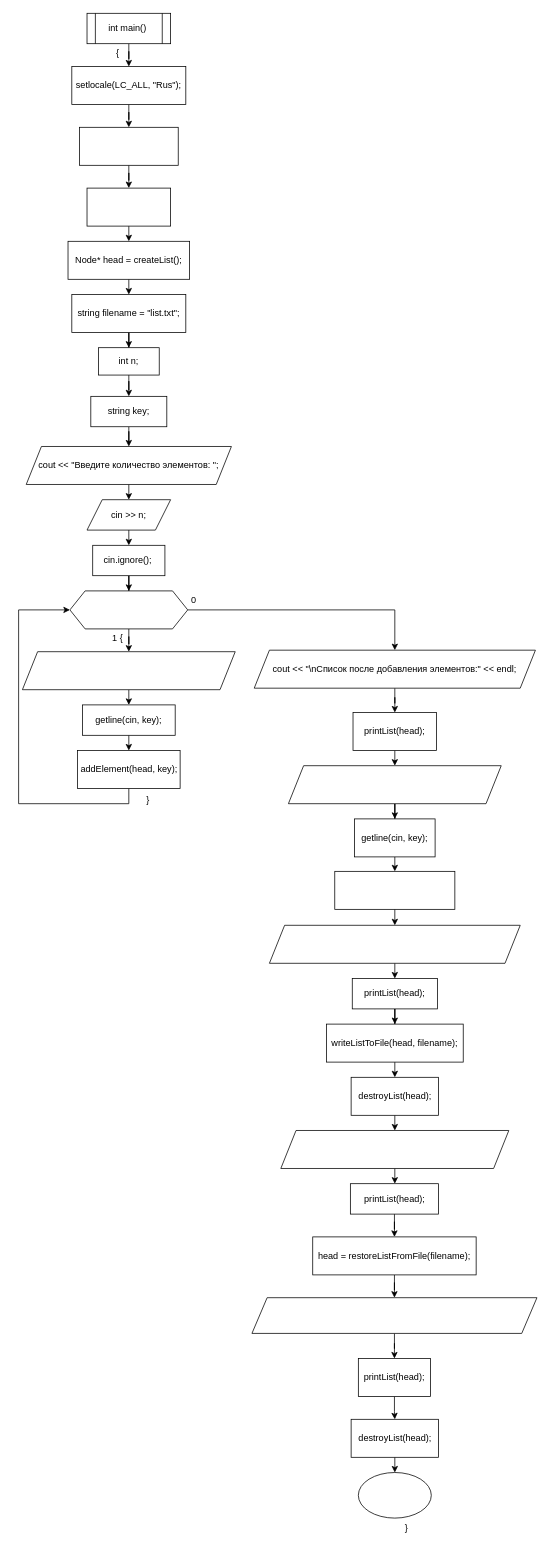
This 550x1553 diagram has some shape labels left out. Each missing label, with the box of its shape:
cout << "\nВведите элемент для удаления: ";: (288, 765, 501, 804)
cout << "\nСписок после восстановления из файла:" << endl;: (251, 1297, 537, 1333)
cout << "\nСписок после удаления элемента:" << endl;: (269, 925, 520, 963)
cout << "\nСписок после уничтожения:" << endl;: (280, 1130, 509, 1168)
cout << "Введите элемент " << i + 1 << ": ";: (22, 651, 235, 690)
deleteElement(head, key);: (334, 871, 455, 909)
for (int i = 0; i < n; i++): (69, 590, 188, 629)
return 0;: (358, 1472, 431, 1518)
system("chcp 1251");: (79, 127, 178, 165)
system("cls");: (86, 187, 171, 226)
